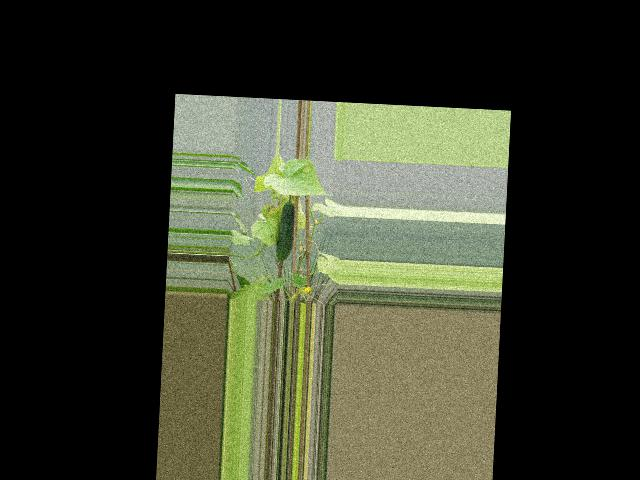cucumber: (275, 201, 295, 262)
